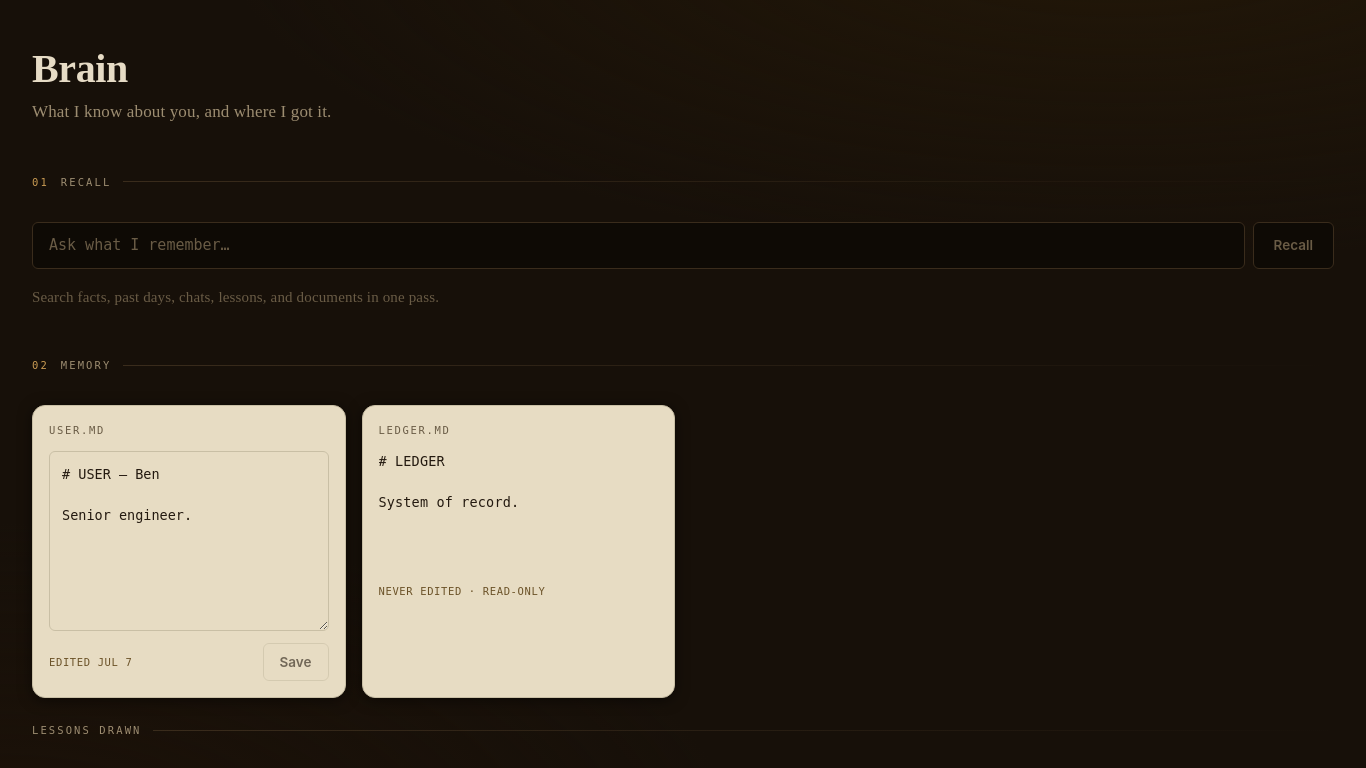
Test: Brain › shows the empty recall line when nothing matches
Check: the text box named "Contents of USER.md" is shown, box left=49, top=450, right=328, bottom=630
In the search field named "Search everything Cabinet remembers": {"x": 638, "y": 245} left=32, top=222, right=1245, bottom=269, type "ferrari"
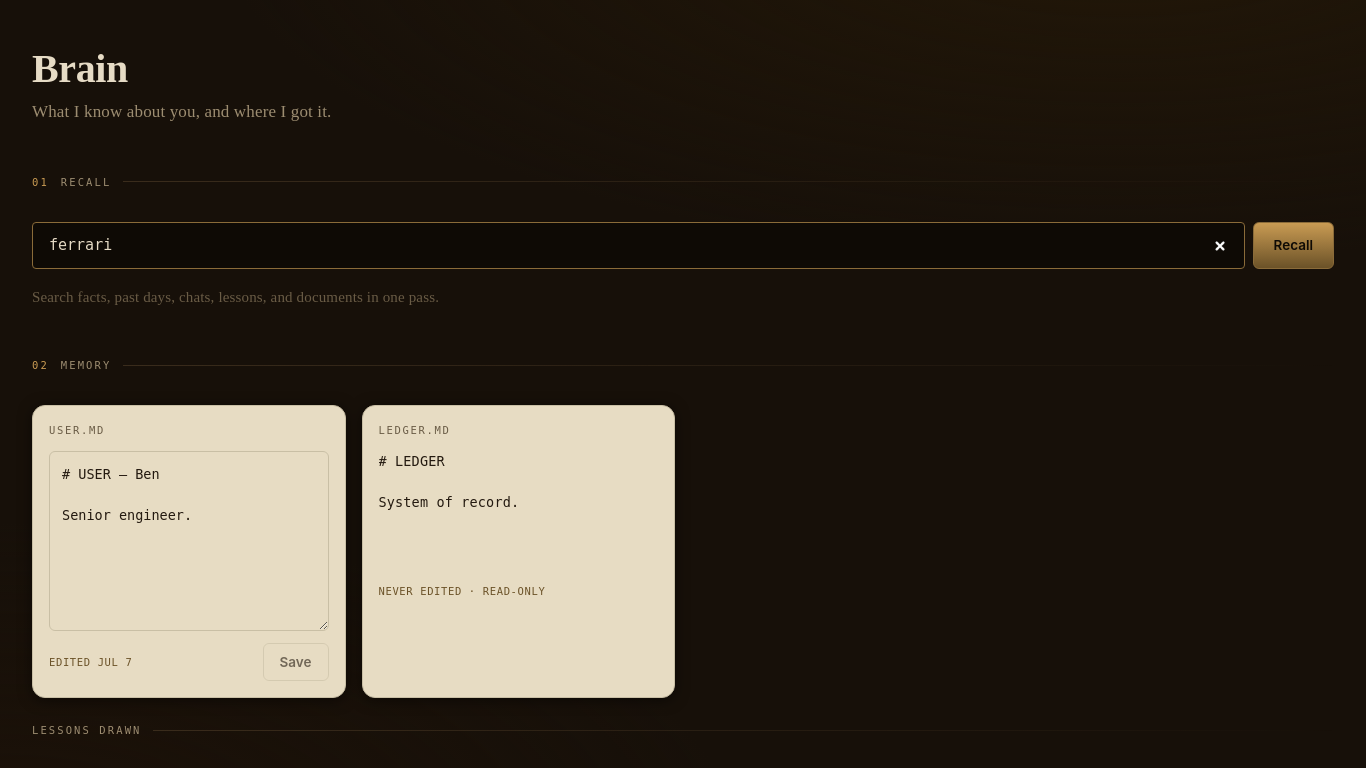
Click the button "Recall": {"x": 1293, "y": 245} left=1253, top=222, right=1334, bottom=269
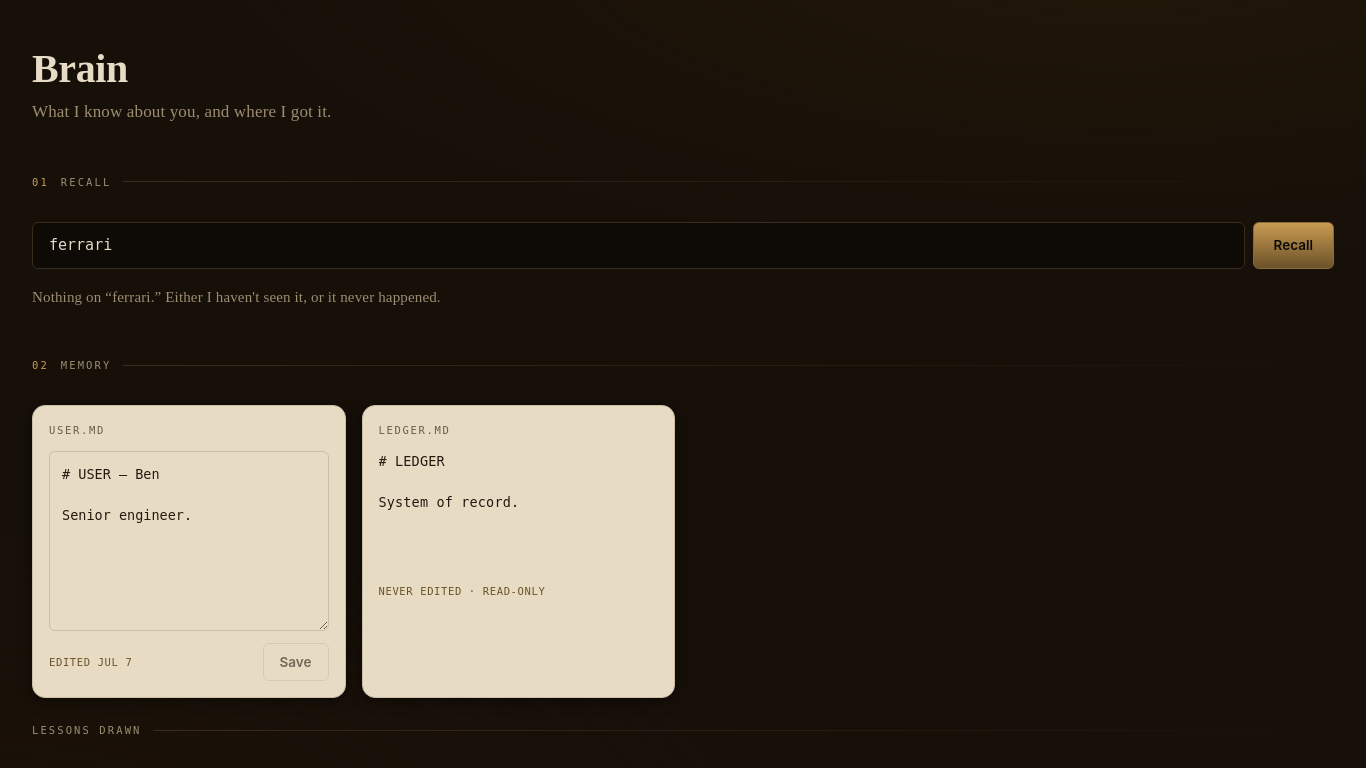
Check: the text "Nothing on" is shown, box left=32, top=289, right=112, bottom=305
